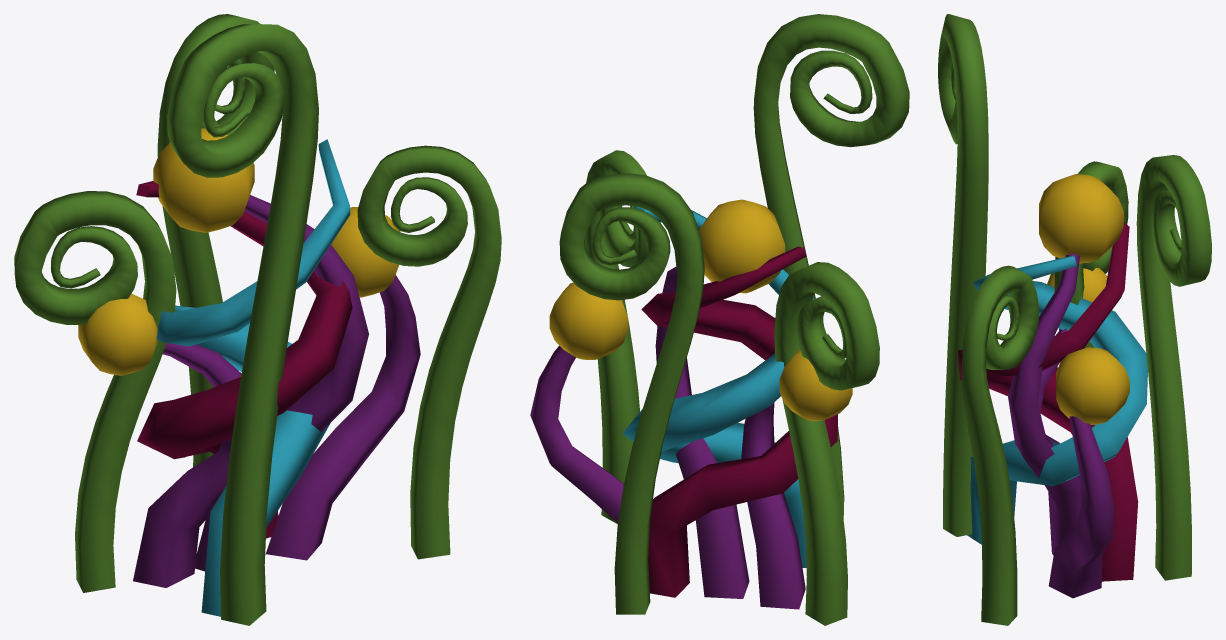
The model's file is plant.glb.
The picture shows the model from 3 angles, left to right: view 1: azimuth 30°, elevation 25°; view 2: azimuth 150°, elevation 25°; view 3: azimuth 270°, elevation 25°; orthographic projection. The views are drawn at different scales.
Visible parts, largest first — view 1: Plant_3, Plant_1, Plant_2; view 2: Plant_3, Plant_1, Plant_2; view 3: Plant_3, Plant_1, Plant_2.
Boxes of the visible parts, left/top/right/bottom form: Plant_3: left=14, top=14, right=501, bottom=625; Plant_1: left=78, top=128, right=420, bottom=587; Plant_2: left=136, top=139, right=352, bottom=616; Plant_3: left=559, top=14, right=909, bottom=625; Plant_1: left=530, top=199, right=852, bottom=609; Plant_2: left=622, top=206, right=837, bottom=597; Plant_3: left=938, top=14, right=1211, bottom=625; Plant_1: left=1008, top=174, right=1129, bottom=598; Plant_2: left=958, top=222, right=1147, bottom=581.
Size of what is drawn, in the model's own units: 2.12 by 3 by 1.44.
1 material, 1 textured.
